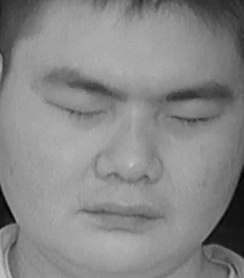blink: (168, 104, 224, 137), (48, 97, 106, 128)
mouth: (74, 192, 165, 241)
